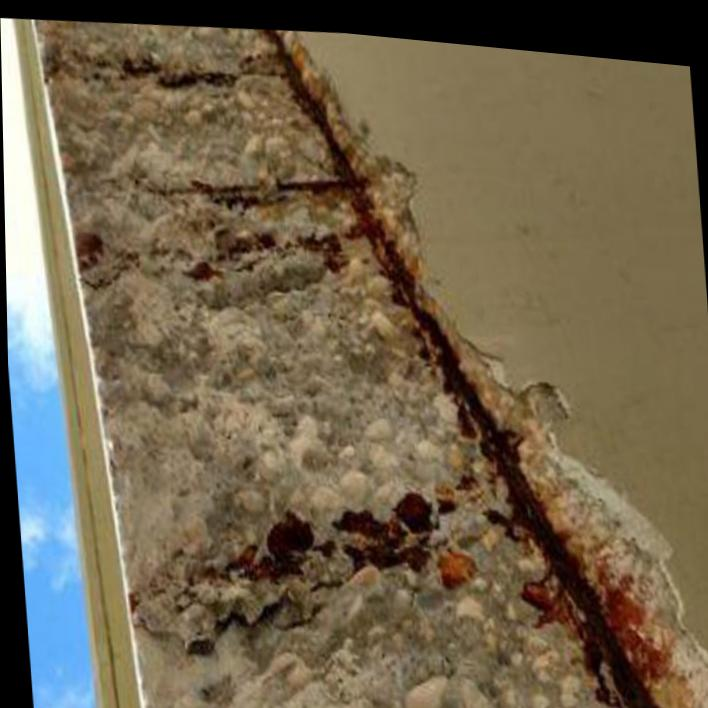damage: (29, 19, 708, 708)
